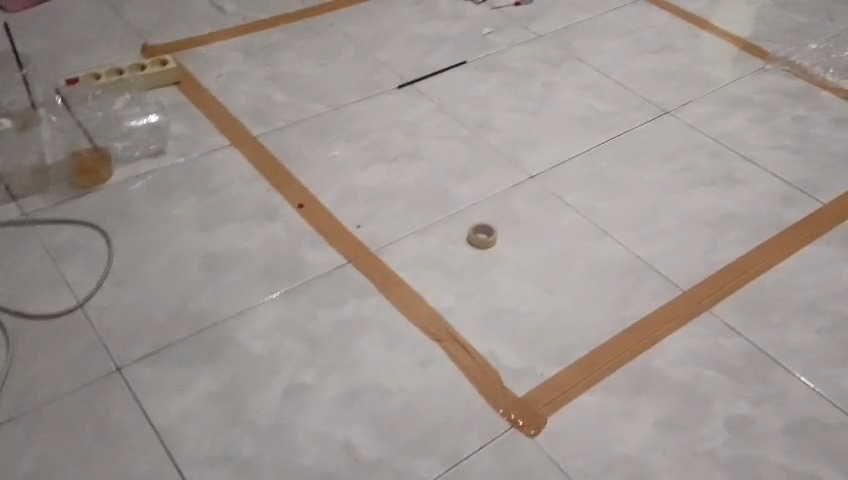floor marking: (179, 67, 847, 436), (648, 0, 847, 100), (142, 0, 365, 58)
